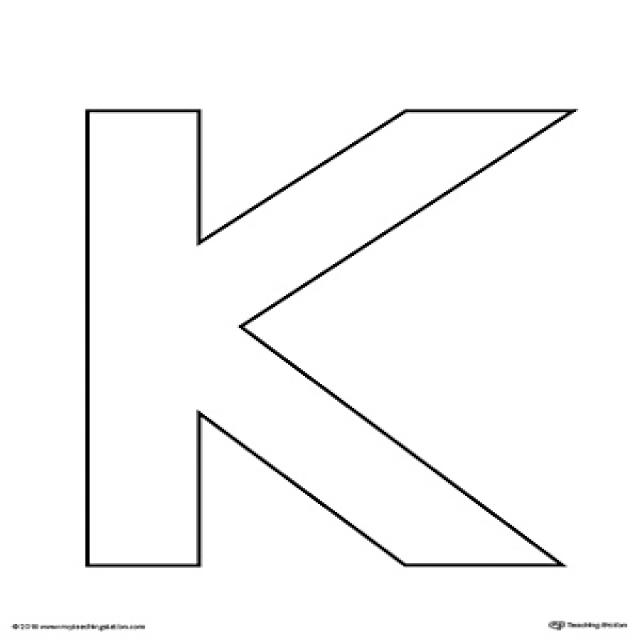K: (29, 62, 615, 606)
